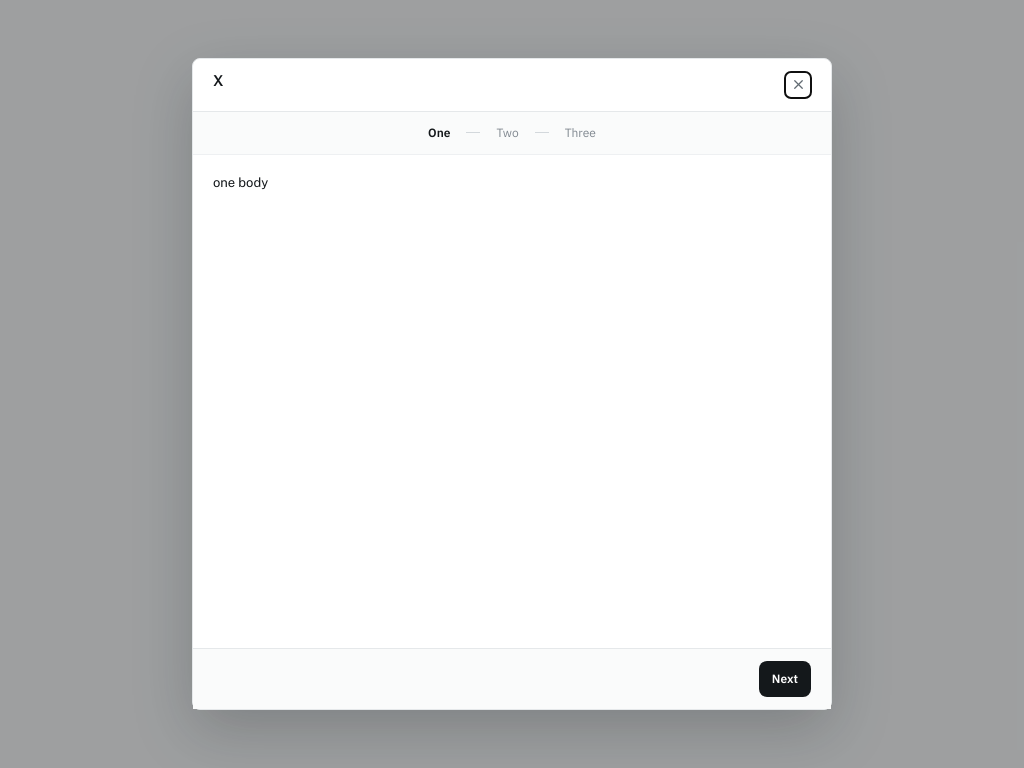
Test: Dialog › lets you go back but not skip ahead
The image size is (1024, 768).
Expected: the button "Three" is disabled, [559,122,602,144]
What coordinates should you click on to do the following:
click the button "Next"
I would click on:
 (785, 679)
Its box is [759,661,811,697].
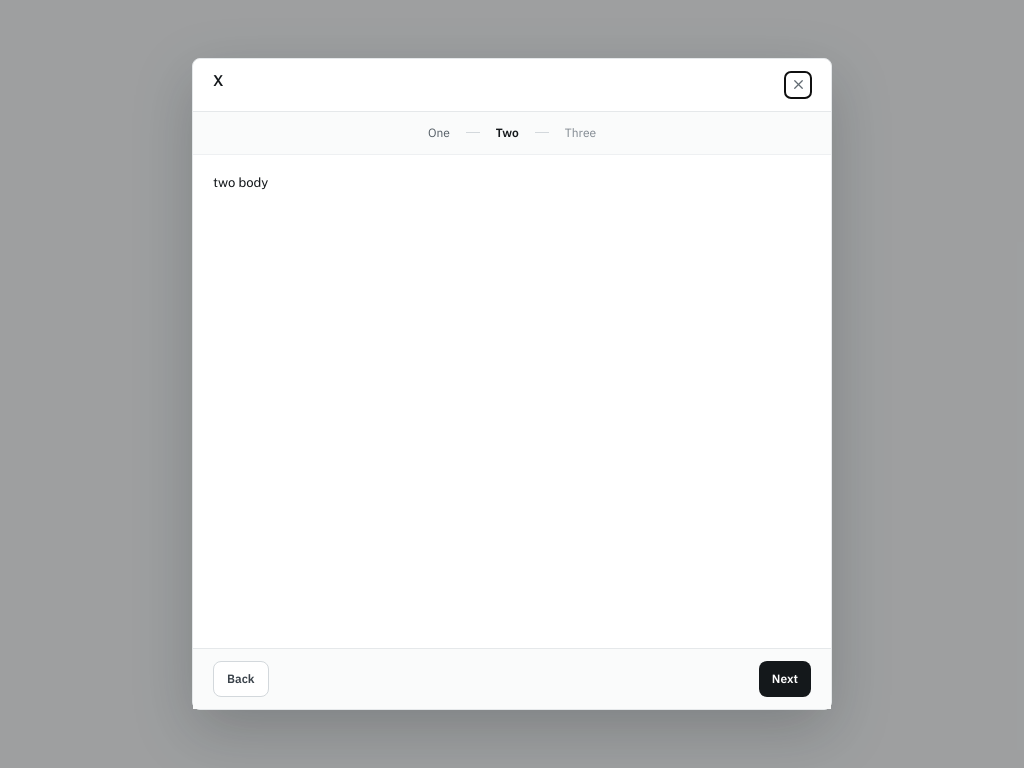
Expected: the text "two body" is shown, [213,175,268,190]
What coordinates should you click on to do the following:
click the button "One"
I would click on:
 (439, 133)
Its box is [422,122,456,144].
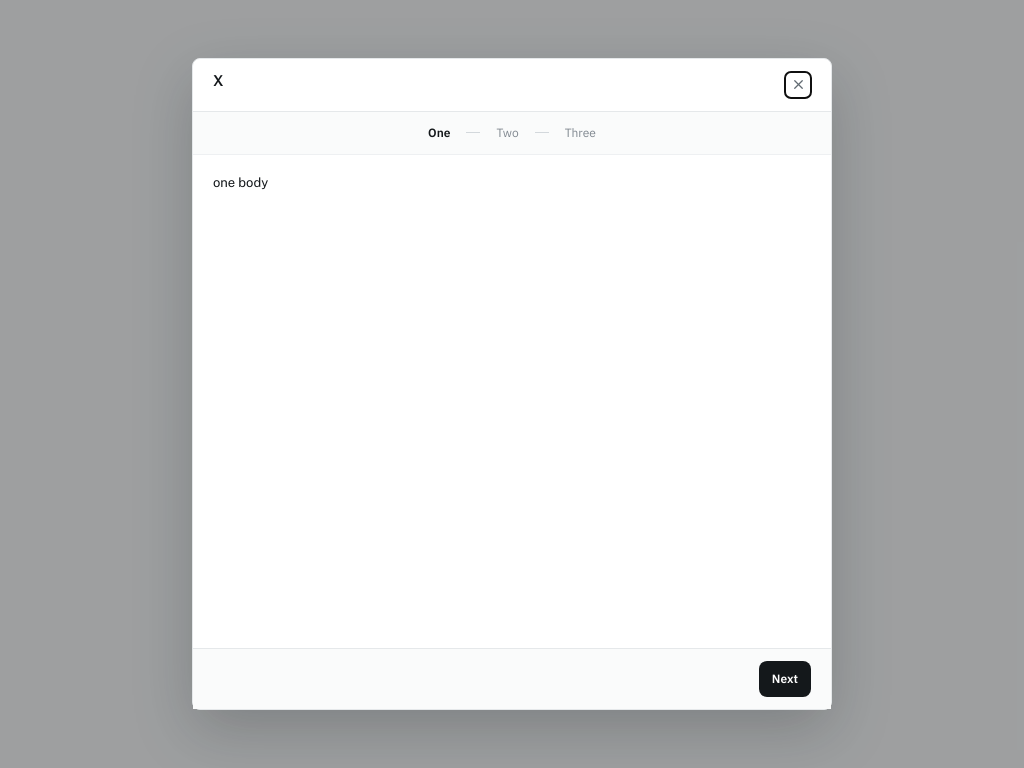
Expected: the text "one body" is shown, [213,175,268,190]
